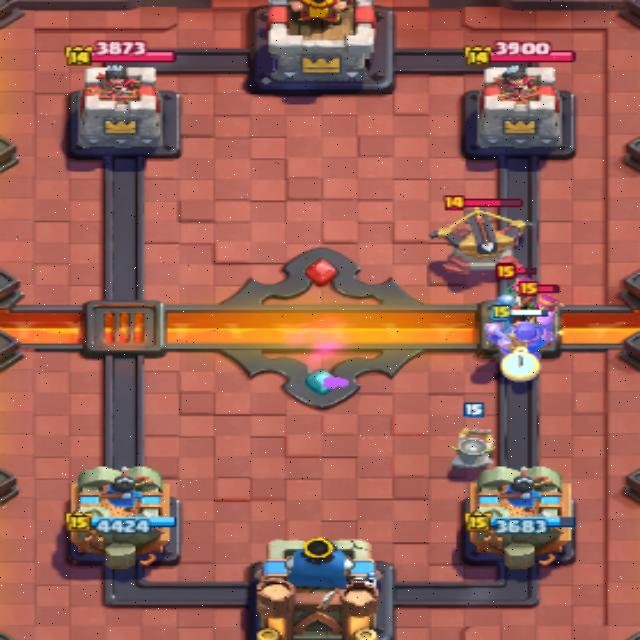EArcher: (537, 294, 558, 311)
EKingTower: (266, 0, 375, 84)
EXbow: (430, 198, 526, 271)
EnemyPrincessTower: (462, 65, 573, 158), (69, 64, 179, 157)
ODoctor: (483, 321, 553, 357), (452, 428, 494, 468)
OwnKingTower: (254, 538, 384, 639)
OwnPrincessTower: (65, 466, 176, 568), (463, 466, 574, 568)
